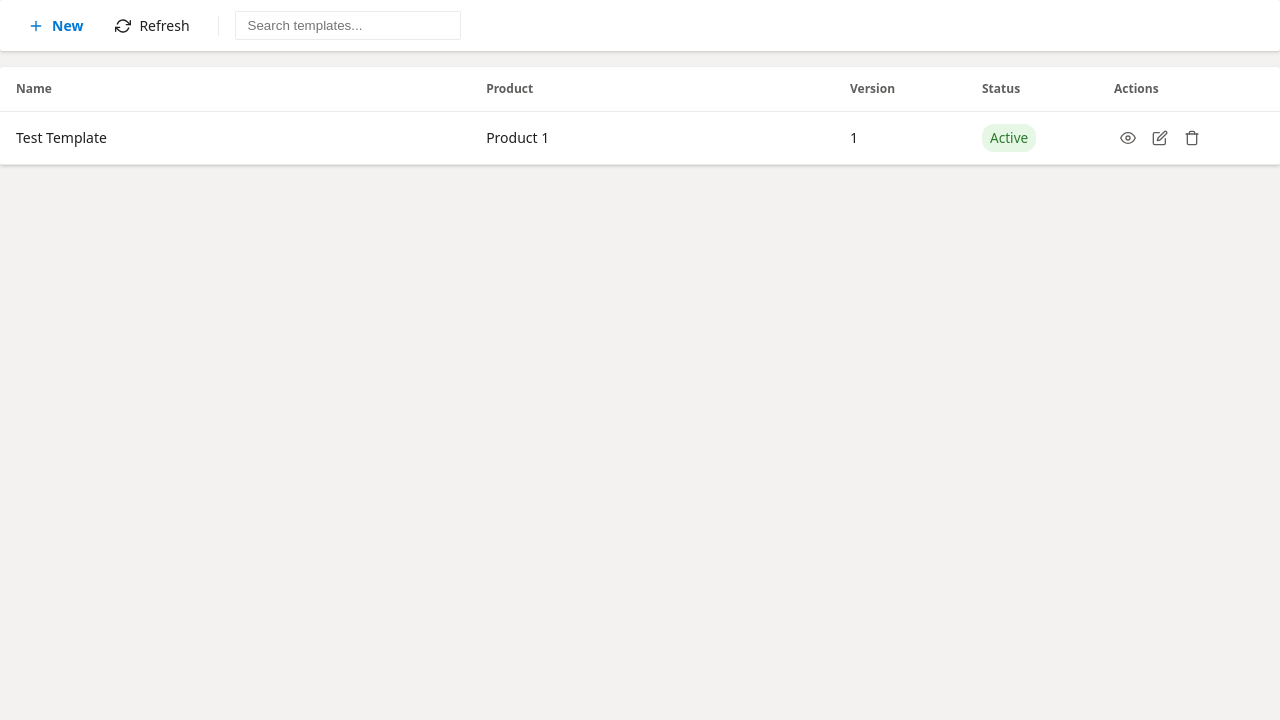
ProductTemplatesPage › opens view details when row is clicked
Click the text "Test Template" at [235, 138], box [0,112,470,164]
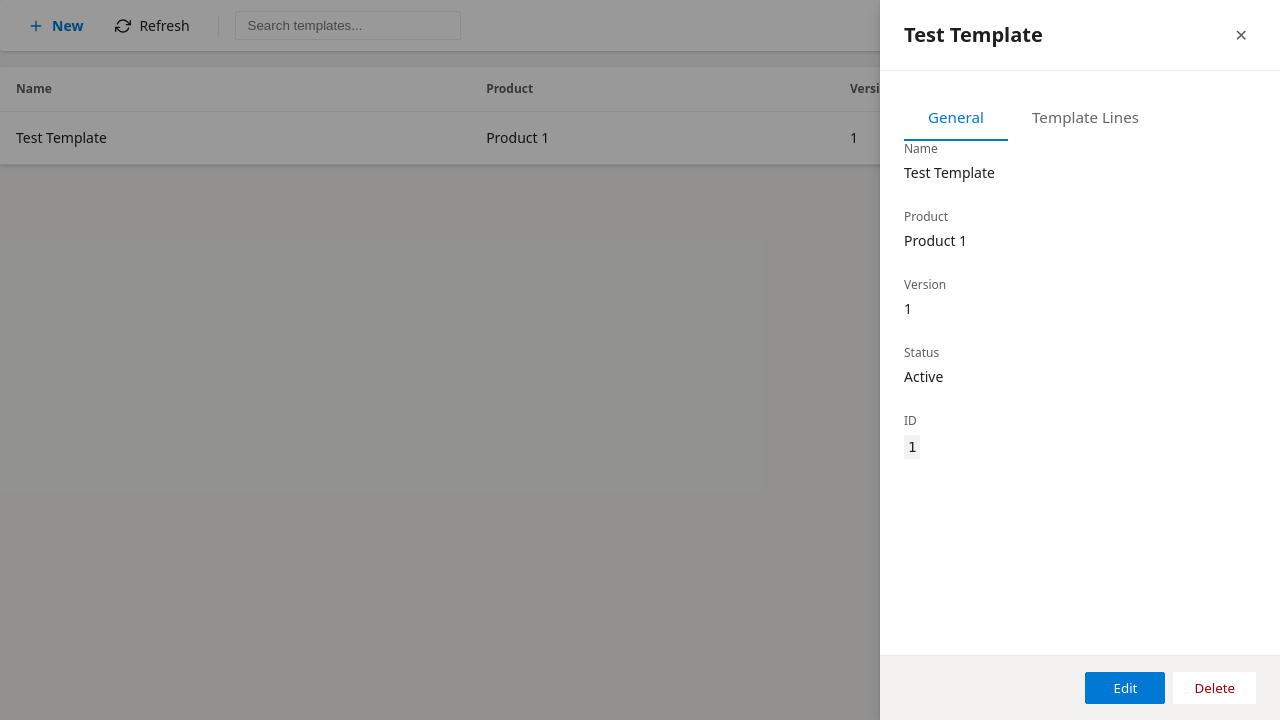
Check: the heading "Test Template" is shown, box [904,25,1043,45]
